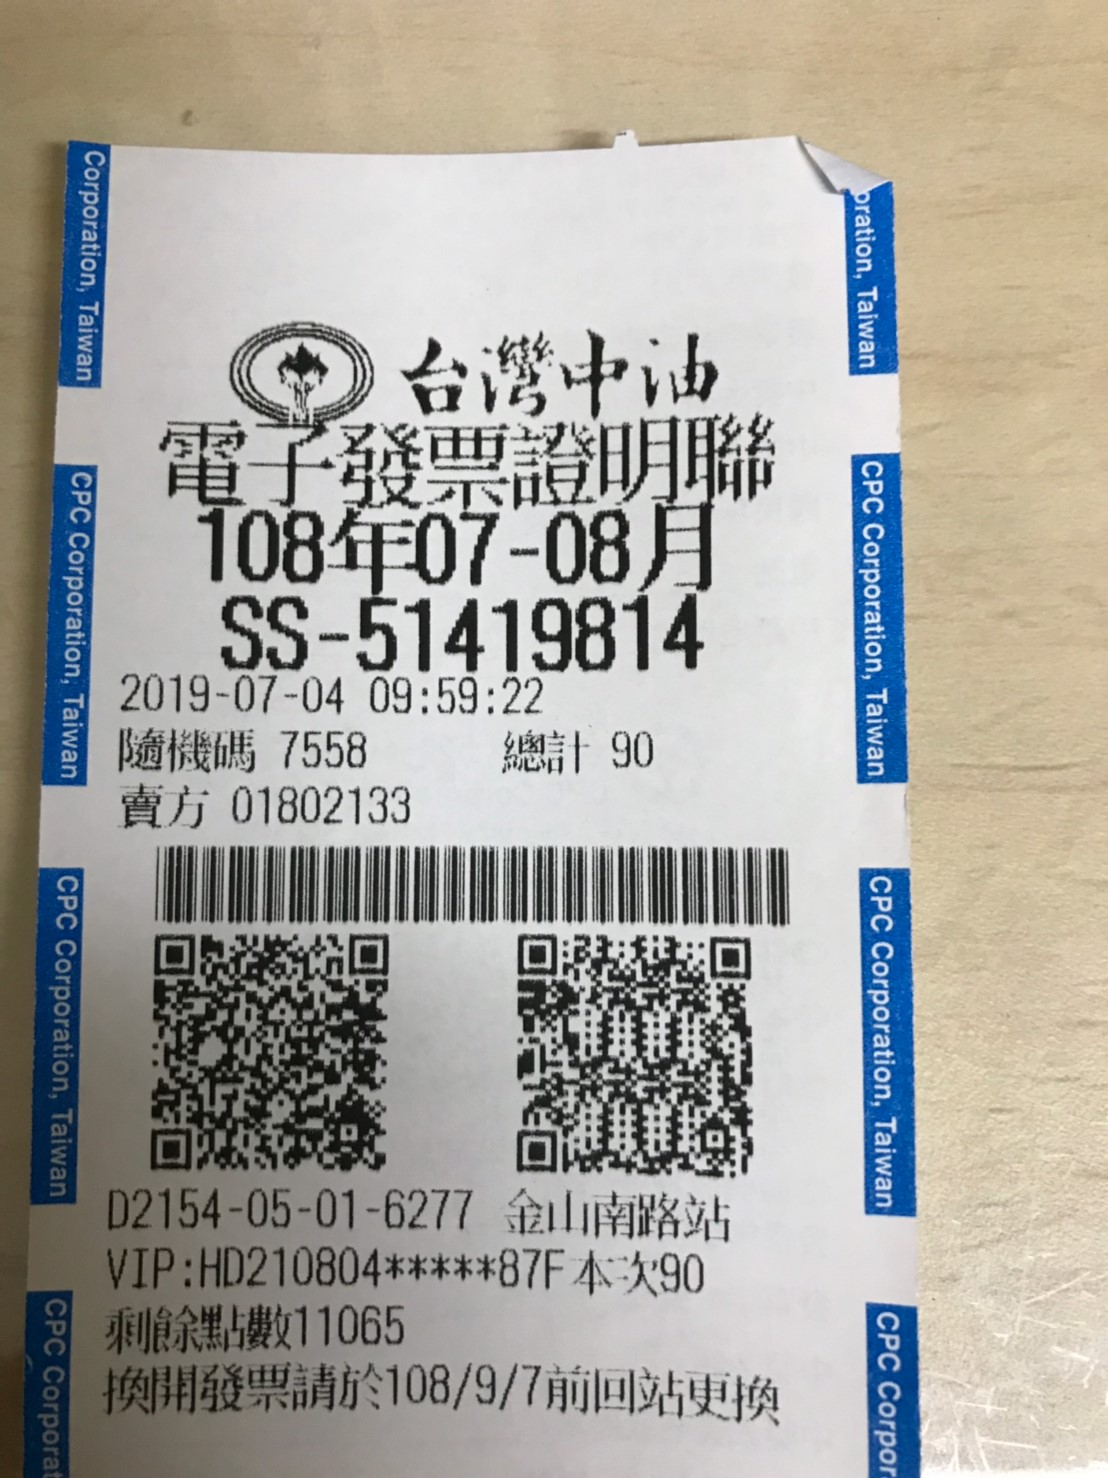Date_New: (196, 504, 718, 597)
Number_New: (358, 591, 713, 678)
